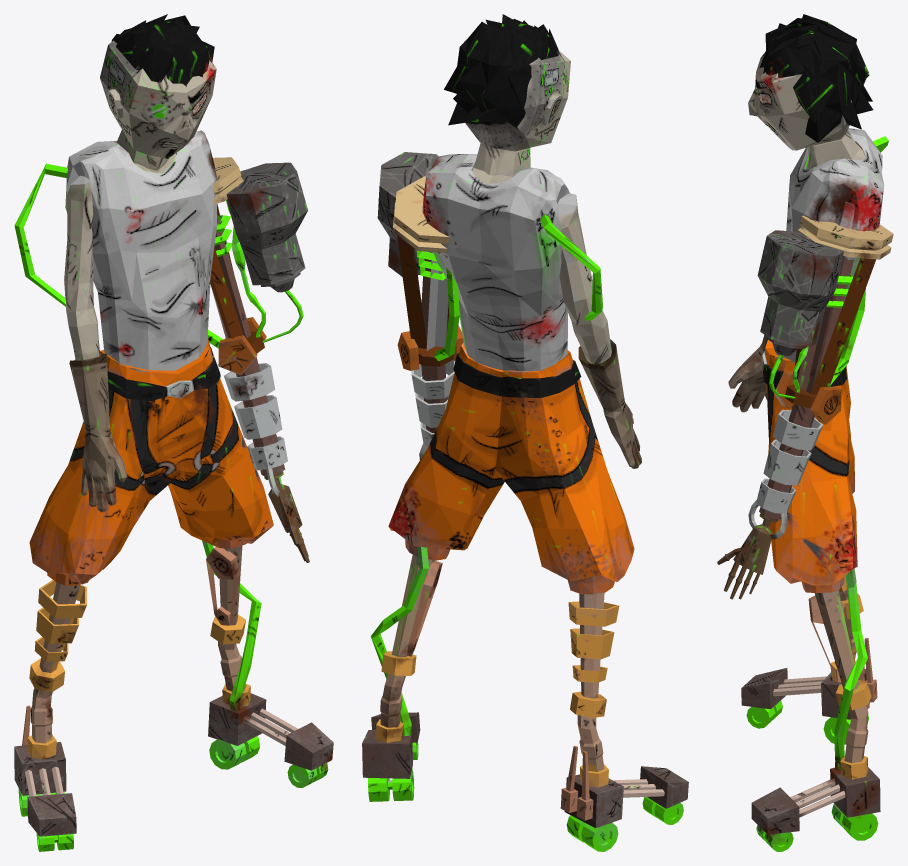
The model's file is CyborgFINALAnimation_000054.obj.
3 views of the same model, side by side, from view 1: azimuth 30°, elevation 25°; view 2: azimuth 150°, elevation 25°; view 3: azimuth 270°, elevation 25° (orthographic). The views are drawn at different scales.
Parts seen in each view (by area): view 1: CyborgMesh_Cube.002; view 2: CyborgMesh_Cube.002; view 3: CyborgMesh_Cube.002.
Part boxes in pixels (box(x1,y1,x2,y2)): CyborgMesh_Cube.002: box(14, 14, 333, 851); CyborgMesh_Cube.002: box(362, 14, 688, 851); CyborgMesh_Cube.002: box(717, 14, 893, 851).
Size of the model in its own units: 3.86 by 9.65 by 2.01.
